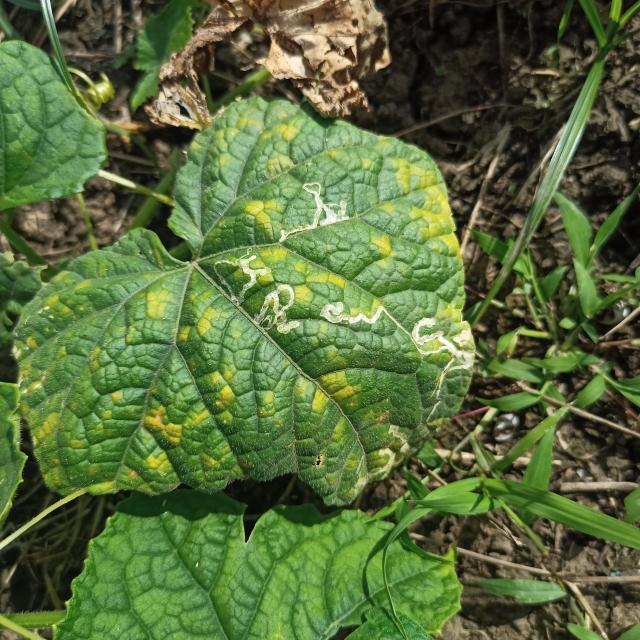disease_cucumber: (25, 111, 475, 496)
